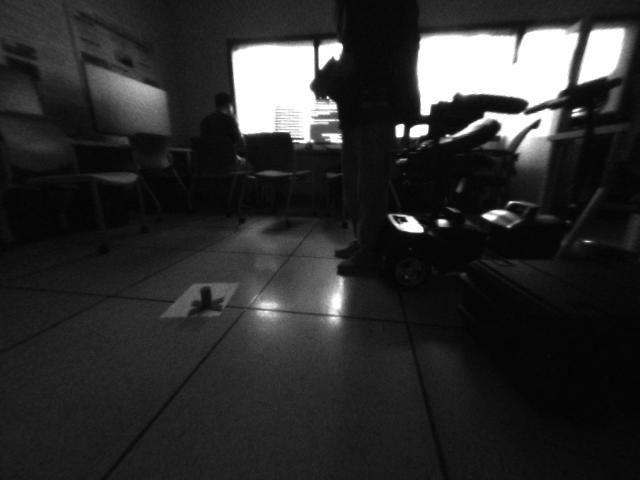x: (179, 284, 225, 319)
